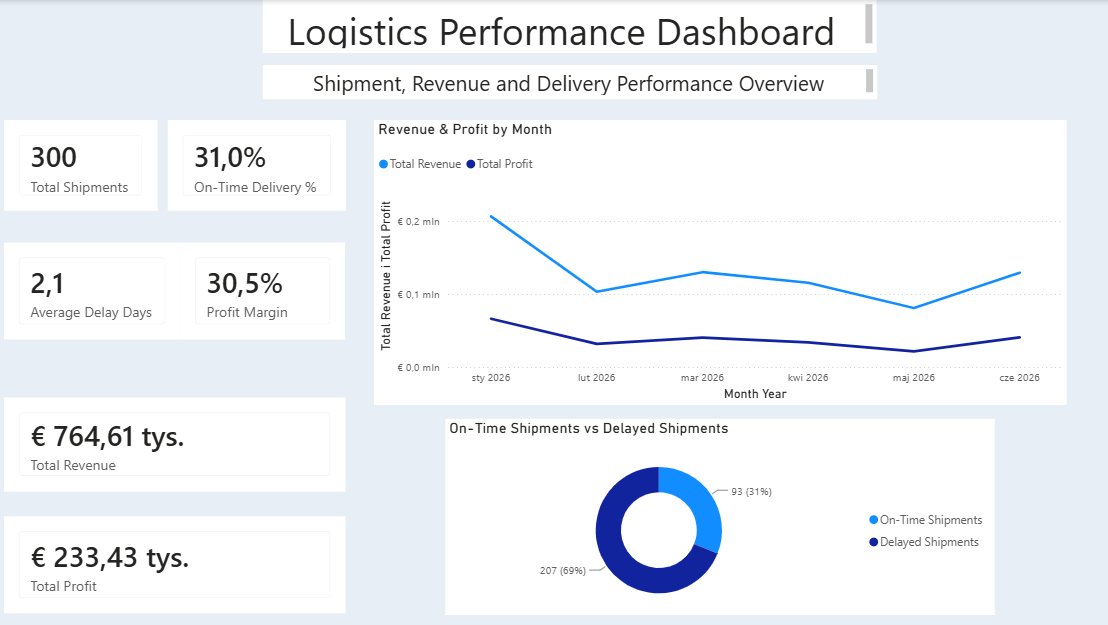

What the dashboard file says about the page in this screenshot:
{"tool":"powerbi","page":{"name":"Executive Overview ","canvas":[1280,720],"ordinal":0},"visuals":[{"type":"cardVisual","fields":{"Data":["Measures (2).Total Shipments"]},"box":[11.3,138.1,175.9,104],"z":0},{"type":"cardVisual","fields":{"Data":["Measures (2).Total Revenue"]},"box":[11.3,455.8,391.5,107.8],"z":1000},{"type":"cardVisual","fields":{"Data":["Measures (2).Total Profit"]},"box":[11.3,592,391.5,111.6],"z":2000},{"type":"cardVisual","fields":{"Data":["Measures (2).On-Time Delivery %"]},"box":[198.6,138.1,204.3,104],"z":3000},{"type":"cardVisual","fields":{"Data":["Measures (2).Average Delay Days"]},"box":[11.3,278,202.4,111.6],"z":4000},{"type":"lineChart","title":"Revenue & Profit by Month","fields":{"Category":["Calendar.Month Year"],"Y":["Measures (2).Total Revenue","Measures (2).Total Profit"]},"box":[435.3,137.5,793.3,326.5],"z":5000},{"type":"donutChart","title":"On-Time Shipments vs Delayed Shipments","fields":{"Y":["Measures (2).On-Time Shipments","Measures (2).Delayed Shipments"]},"box":[516.9,479.7,629.8,225.1],"z":6000},{"type":"textbox","box":[308.3,0,703.5,60.5],"z":7000},{"type":"textbox","box":[308.1,74.3,704.1,39.2],"z":8000},{"type":"cardVisual","fields":{"Data":["Measures (2).Profit Margin"]},"box":[213.7,278,189.1,111.6],"z":9000}]}

Visuals, with their boxes in screenshot pixels (x1, y1, x2, y2), scaled from the page's 1280x720 canvas onto the 1108x625 screenshot:
cardVisual - Measures (2).Total Shipments: 10/120/162/210
cardVisual - Measures (2).Total Revenue: 10/396/349/489
cardVisual - Measures (2).Total Profit: 10/514/349/611
cardVisual - Measures (2).On-Time Delivery %: 172/120/349/210
cardVisual - Measures (2).Average Delay Days: 10/241/185/338
"Revenue & Profit by Month" lineChart: 377/119/1064/403
"On-Time Shipments vs Delayed Shipments" donutChart: 447/416/993/612
textbox: 267/0/876/53
textbox: 267/64/876/99
cardVisual - Measures (2).Profit Margin: 185/241/349/338
